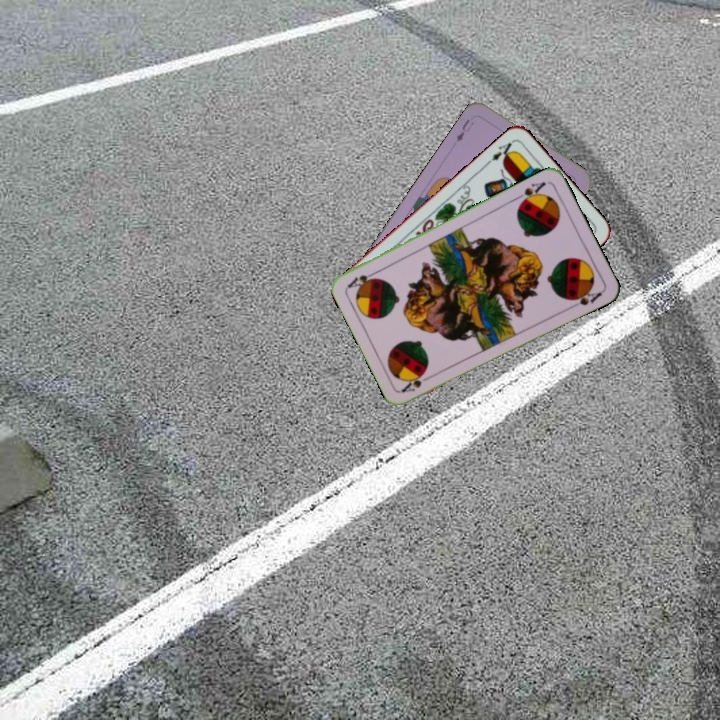EA: (482, 138, 518, 167)
EU: (452, 115, 477, 145)
SA: (512, 177, 548, 208), (398, 370, 436, 395)
